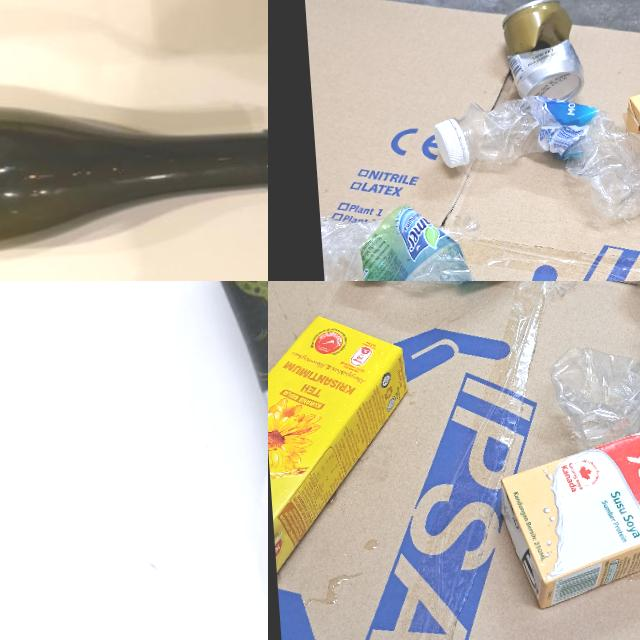caixinha: (268, 310, 420, 585), (494, 399, 640, 610)
garrafa de vidro: (0, 83, 268, 270), (193, 281, 268, 640)
garrafa plástica: (458, 84, 640, 232), (542, 281, 640, 452), (319, 200, 484, 281)
lata: (497, 0, 583, 105)
papelão: (268, 281, 640, 640), (303, 0, 640, 281)
tampa plástica: (433, 119, 467, 168)
